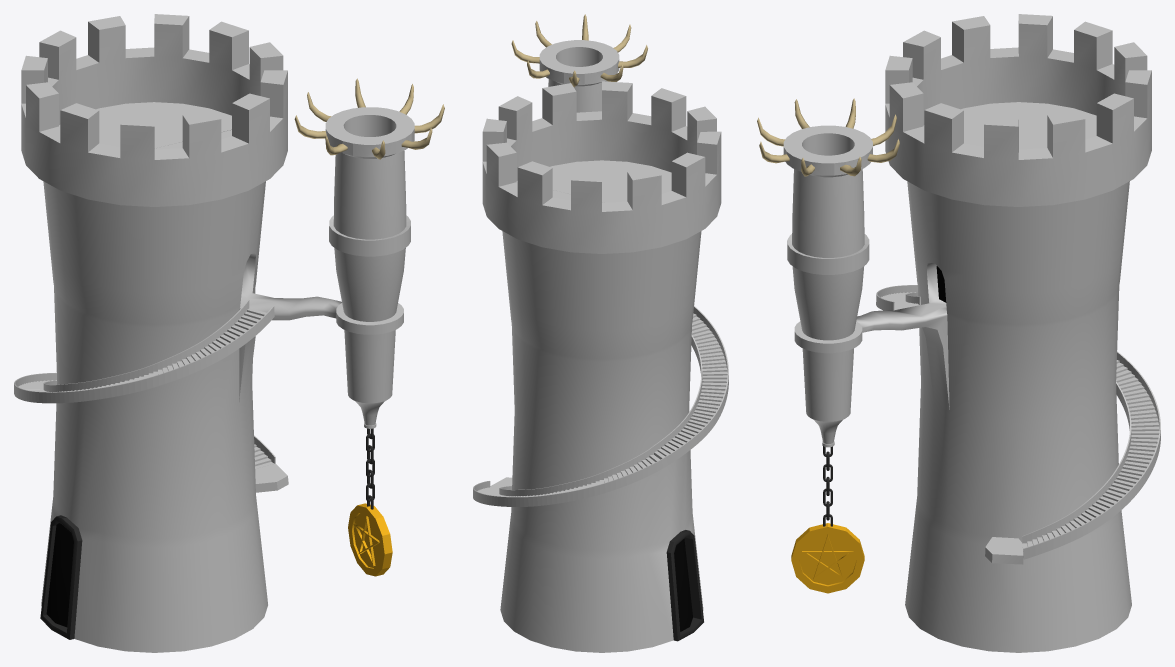
The model's file is mesh_tower.fbx.
3 renders of one model, left to right at view 1: azimuth 30°, elevation 25°; view 2: azimuth 150°, elevation 25°; view 3: azimuth 270°, elevation 25°, orthographic. The views are drawn at different scales.
Visible parts, largest first — view 1: Cylinder002, Object001, Cylinder004, Object003; view 2: Cylinder002, Object001, Object003; view 3: Cylinder002, Object003, Object001, Cylinder004.
Part boxes in pixels (box(x1,y1,x2,y2)): Cylinder002: box(21, 14, 444, 652); Object001: box(14, 299, 275, 463); Cylinder004: box(348, 503, 392, 576); Object003: box(18, 308, 274, 468); Cylinder002: box(482, 14, 721, 652); Object001: box(473, 306, 728, 506); Object003: box(477, 313, 727, 496); Cylinder002: box(757, 14, 1151, 652); Object003: box(881, 292, 1159, 551); Object001: box(876, 285, 1160, 559); Cylinder004: box(791, 523, 864, 593).
Bounding box in the file's own units: 59.12 × 99.06 × 67.66.
